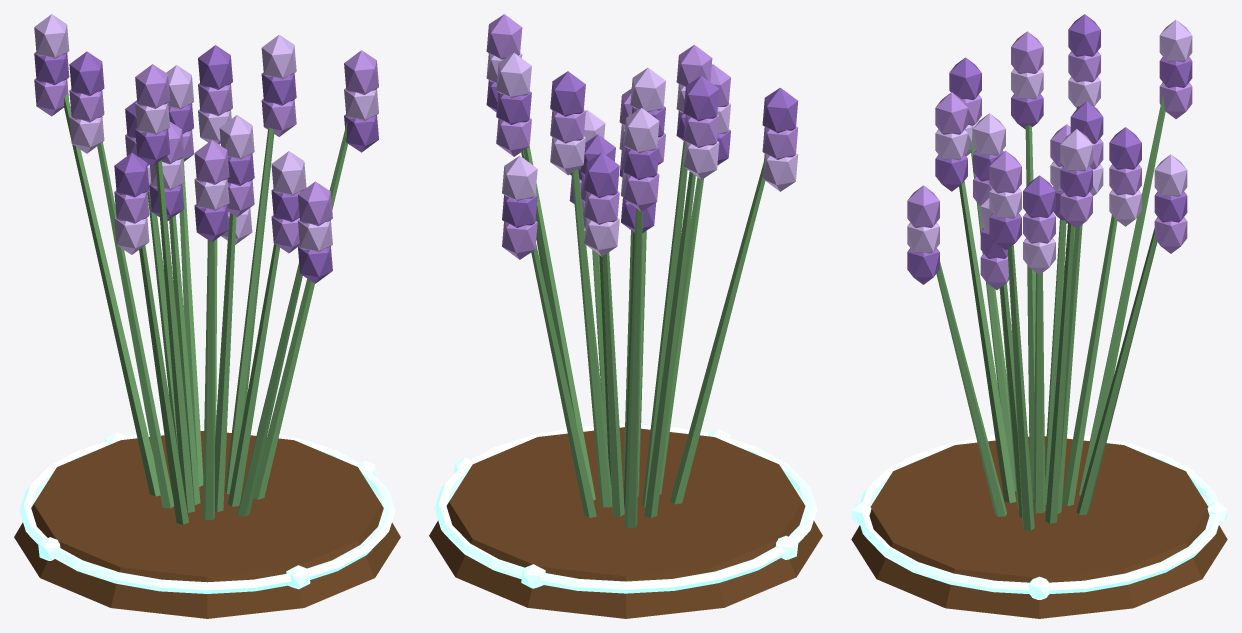
File: mature.glb
3 renders of one model, left to right at view 1: azimuth 30°, elevation 25°; view 2: azimuth 150°, elevation 25°; view 3: azimuth 270°, elevation 25°, orthographic. The views are drawn at different scales.
Visible parts, largest first — view 1: Lavender_Soil, Chrono_Energy_Ring, Lavender_Stem_15, Lavender_Stem_10, Lavender_Stem_09, Lavender_Stem_05, Lavender_Stem_14, Lavender_Stem_03, Lavender_Stem_13, Lavender_Stem_08, Lavender_Stem_06, Lavender_Stem_11 (+41 smaller); view 2: Lavender_Soil, Chrono_Energy_Ring, Lavender_Stem_10, Lavender_Stem_04, Lavender_Stem_13, Lavender_Stem_15, Lavender_Stem_12, Lavender_Stem_07, Lavender_Stem_05, Lavender_Stem_09, Lavender_Stem_08, Lavender_Bloom_13_1 (+31 smaller); view 3: Lavender_Soil, Chrono_Energy_Ring, Lavender_Stem_15, Lavender_Stem_08, Lavender_Stem_09, Lavender_Stem_07, Lavender_Stem_12, Lavender_Stem_14, Lavender_Stem_11, Lavender_Stem_01, Lavender_Stem_05, Lavender_Stem_02 (+37 smaller).
Part boxes in pixels (box(x1,y1,x2,y2)): Lavender_Soil: box(14, 431, 400, 618); Chrono_Energy_Ring: box(19, 428, 395, 593); Lavender_Stem_15: box(63, 80, 160, 496); Lavender_Stem_10: box(97, 142, 174, 508); Lavender_Stem_09: box(225, 127, 274, 494); Lavender_Stem_05: box(155, 160, 194, 512); Lavender_Stem_14: box(253, 121, 347, 499); Lavender_Stem_03: box(215, 213, 236, 512); Lavender_Stem_13: box(139, 245, 188, 524); Lavender_Stem_08: box(202, 240, 214, 520); Lavender_Stem_06: box(228, 244, 279, 506); Lavender_Stem_11: box(237, 262, 302, 516); Lavender_Soil: box(429, 427, 822, 618); Chrono_Energy_Ring: box(434, 424, 817, 593); Lavender_Stem_10: box(644, 171, 695, 517); Lavender_Stem_04: box(572, 169, 612, 507); Lavender_Stem_13: box(670, 156, 765, 504); Lavender_Stem_15: box(624, 208, 642, 528); Lavender_Stem_12: box(531, 243, 596, 517); Lavender_Stem_07: box(602, 252, 624, 516); Lavender_Stem_05: box(642, 141, 687, 507); Lavender_Stem_09: box(523, 147, 595, 500); Lavender_Stem_08: box(659, 177, 703, 494); Lavender_Bloom_13_1: box(762, 87, 798, 133); Lavender_Soil: box(851, 436, 1227, 618); Chrono_Energy_Ring: box(858, 433, 1220, 593); Lavender_Stem_15: box(1079, 85, 1165, 495); Lavender_Stem_08: box(959, 180, 1016, 503); Lavender_Stem_09: box(1045, 223, 1074, 523); Lavender_Stem_07: box(1062, 215, 1117, 506); Lavender_Stem_12: box(1076, 228, 1157, 514); Lavender_Stem_14: box(1007, 245, 1034, 530); Lavender_Stem_11: box(936, 262, 1006, 516); Lavender_Stem_01: box(1033, 273, 1045, 513); Lavender_Stem_05: box(1025, 125, 1035, 499); Lavender_Stem_02: box(1045, 219, 1066, 504).
Bounding box in the file's own units: 1.47 × 2.07 × 1.47.
